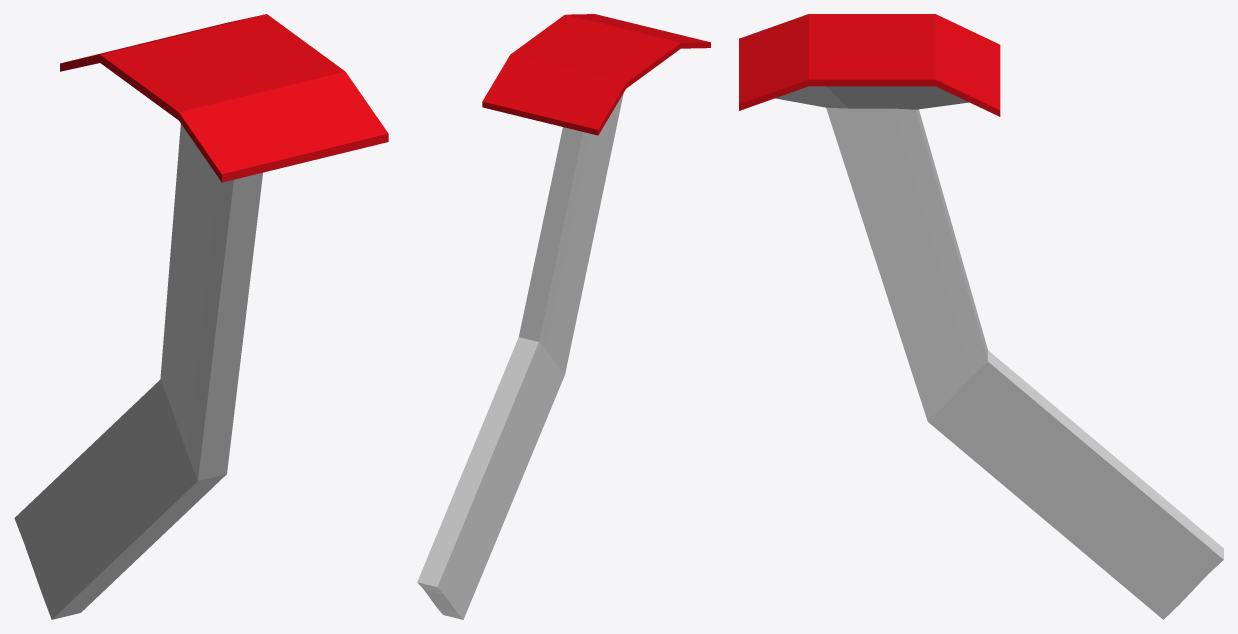
The model's file is brake.fbx.
3 views of the same model, side by side, from view 1: azimuth 30°, elevation 25°; view 2: azimuth 150°, elevation 25°; view 3: azimuth 270°, elevation 25° (orthographic). The views are drawn at different scales.
Parts seen in each view (by area): view 1: Cube; view 2: Cube; view 3: Cube.
Boxes of the visible parts, x1=… form: Cube: x1=14, y1=14, x2=388, y2=619; Cube: x1=417, y1=14, x2=710, y2=619; Cube: x1=739, y1=14, x2=1223, y2=619.
Bounding box in the file's own units: 58.37 × 231 × 182.
